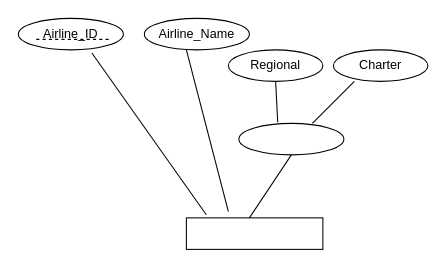
This 446x268 diagram has some shape labels left out. The box of each missing label's shape, as (x1, y1, x2, y2) in pixels:
Airline_Type: (238, 122, 344, 155)
AIRLINES: (185, 217, 323, 249)
